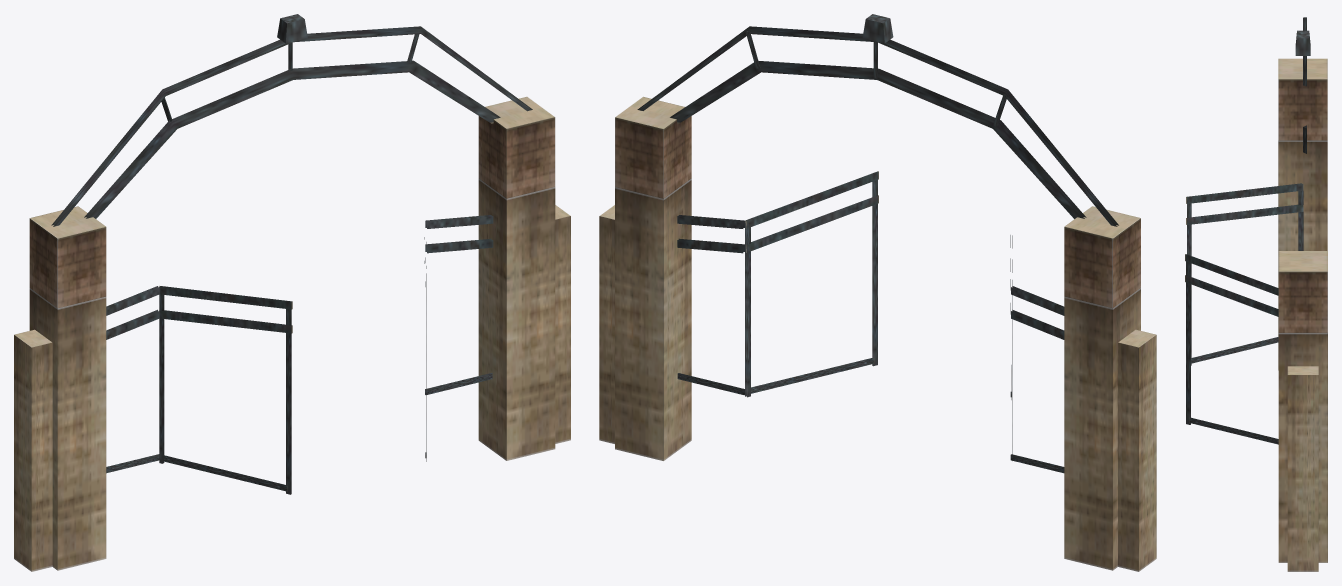
Rendered from thm_nboo_imprv_wide_gate_s01_l3.fbx.
The picture shows the model from 3 angles, left to right: view 1: azimuth 30°, elevation 25°; view 2: azimuth 150°, elevation 25°; view 3: azimuth 270°, elevation 25°; orthographic projection. The views are drawn at different scales.
Visible parts, largest first — view 1: mesh_node; view 2: mesh_node; view 3: mesh_node.
Boxes of the visible parts, x1,y1,x2,y2 form: mesh_node: (14, 14, 570, 571); mesh_node: (599, 14, 1156, 571); mesh_node: (1185, 17, 1327, 571).
Bounding box in the file's own units: 16.18 × 13.79 × 4.23.
Materials: 1 (1 with a texture image).
